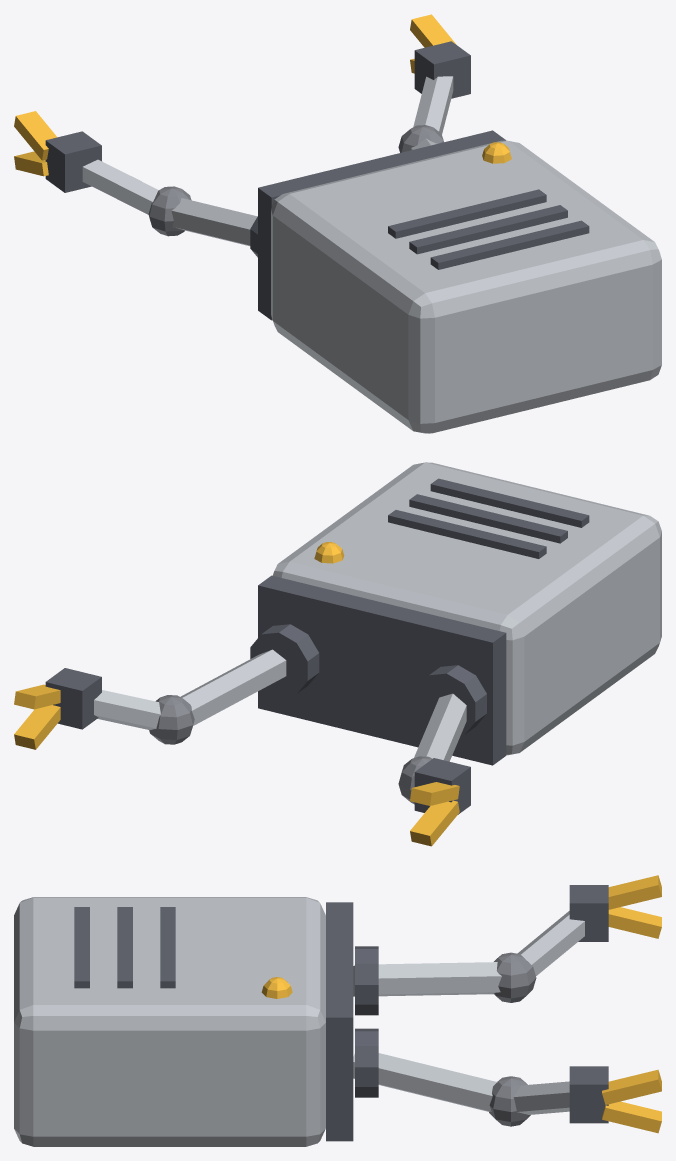
Rendered from armpack_held.gltf.
3 views of the same model, one above another, from view 1: azimuth 30°, elevation 25°; view 2: azimuth 150°, elevation 25°; view 3: azimuth 270°, elevation 25° (orthographic).
Parts seen in each view (by area): view 1: armpack_armpack_held; view 2: armpack_armpack_held; view 3: armpack_armpack_held.
Boxes of the visible parts, bbox=[...] form: armpack_armpack_held: bbox=[14, 14, 661, 433]; armpack_armpack_held: bbox=[14, 462, 661, 846]; armpack_armpack_held: bbox=[14, 875, 661, 1146].
Size of the model in its own units: 0.248 by 0.088 by 0.3324.
